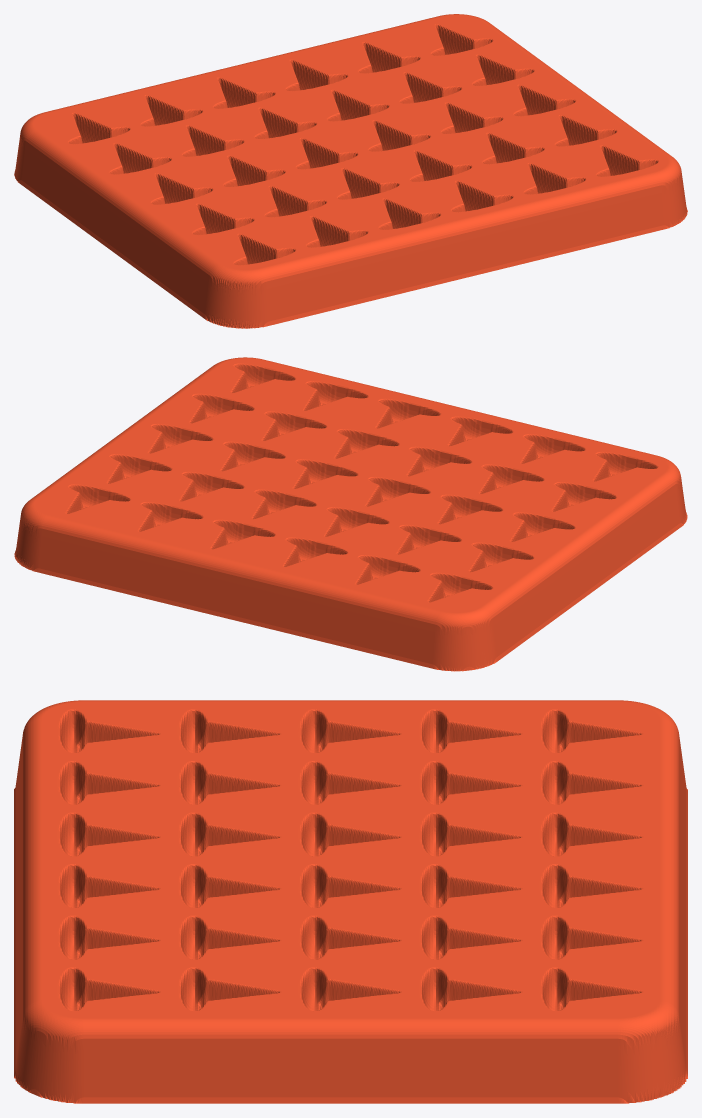
The model's file is mold.glb.
The picture shows the model from 3 angles, top to bottom: view 1: azimuth 30°, elevation 25°; view 2: azimuth 150°, elevation 25°; view 3: azimuth 270°, elevation 25°; orthographic projection. The views are drawn at different scales.
Visible parts, largest first — view 1: geometry_0; view 2: geometry_0; view 3: geometry_0.
Boxes of the visible parts, x1,y1,x2,y2 form: geometry_0: (14,14,687,328); geometry_0: (14,357,687,671); geometry_0: (14,700,687,1103).
Size of the model in its own units: 0.104 by 0.0105 by 0.0872.
